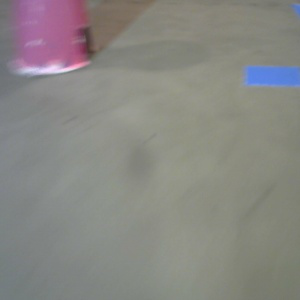middle: (8, 1, 99, 78)
